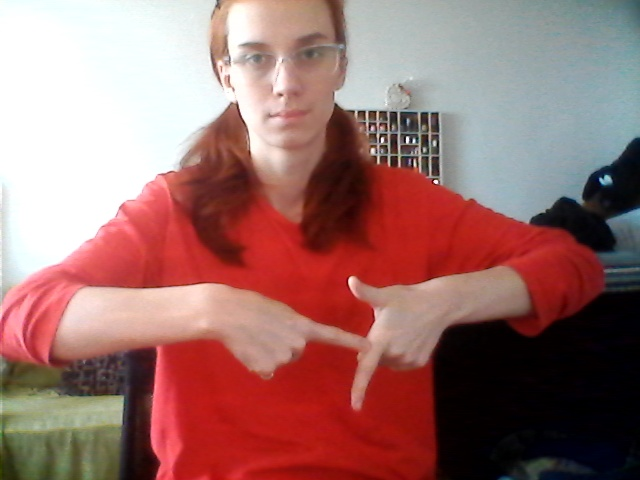f: (238, 266, 450, 420)
